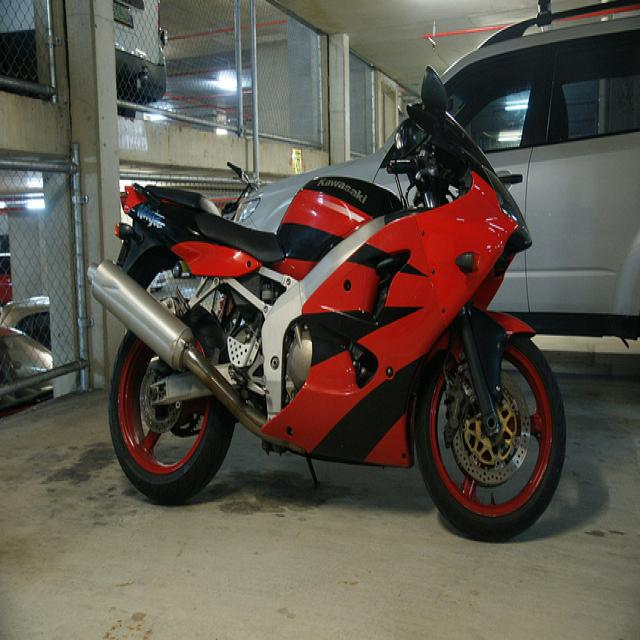motor: (89, 81, 568, 543)
